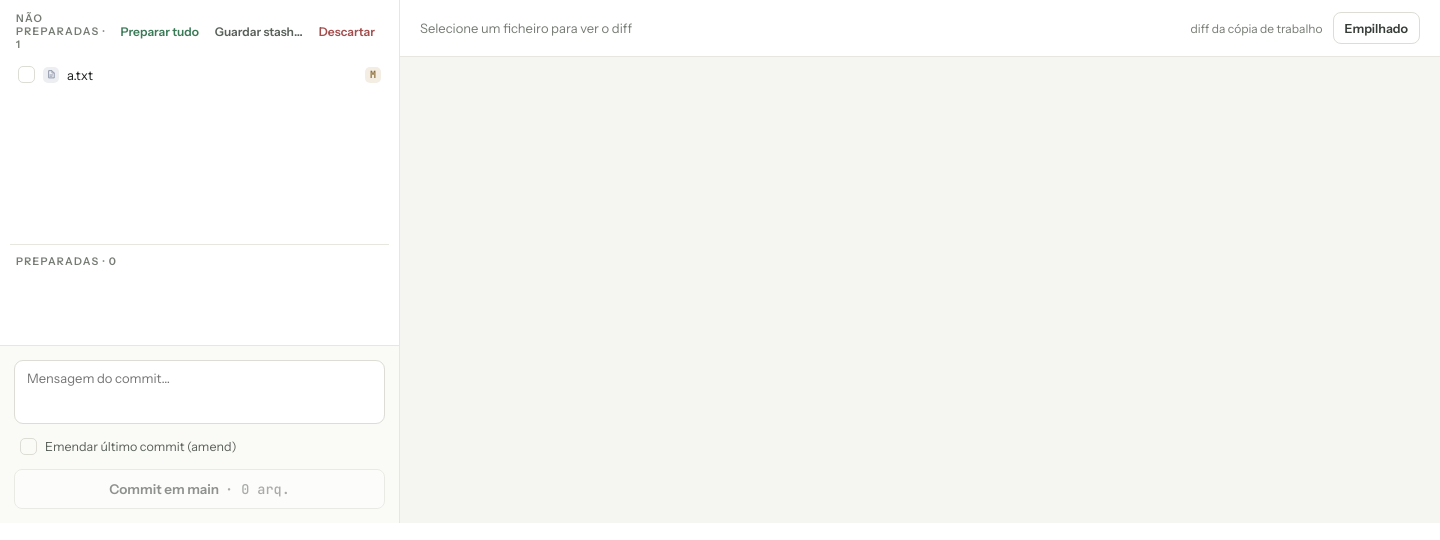
Scenario: Committing: stage + message + commit, end to end through the real mutation wiring › stages a file (refetching status), then commits with the exact message/amend args and refreshes the working copy on success
This screenshot has width=1440, height=540.
Expected: the text "a.txt" is shown, [67,66,93,82]
Expected: the text "NÃO PREPARADAS · 1" is shown, [16,12,113,51]
Step 1. Click the checkbox titled "Preparar" → (26, 74), box [18,66,35,83]
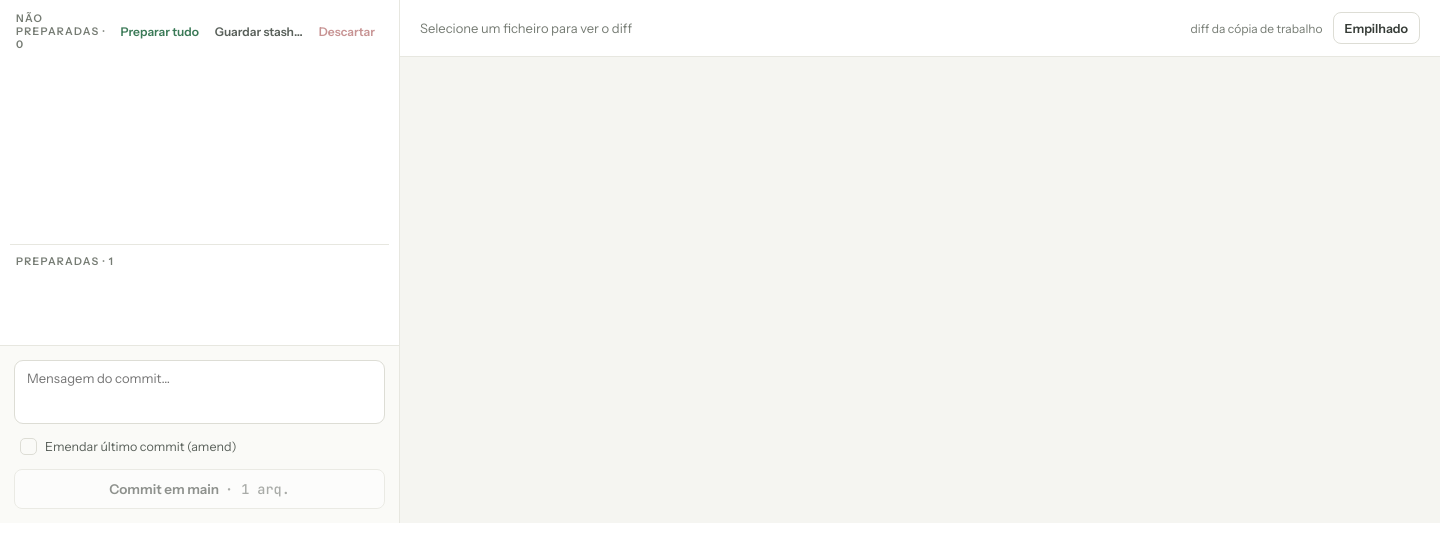
Expected: the text "PREPARADAS · 1" is shown, [16,255,114,268]
Step 2. Type "Fix the login bug" into the text box with placeholder "Mensagem do commit…" → (200, 392), box [14,360,385,424]
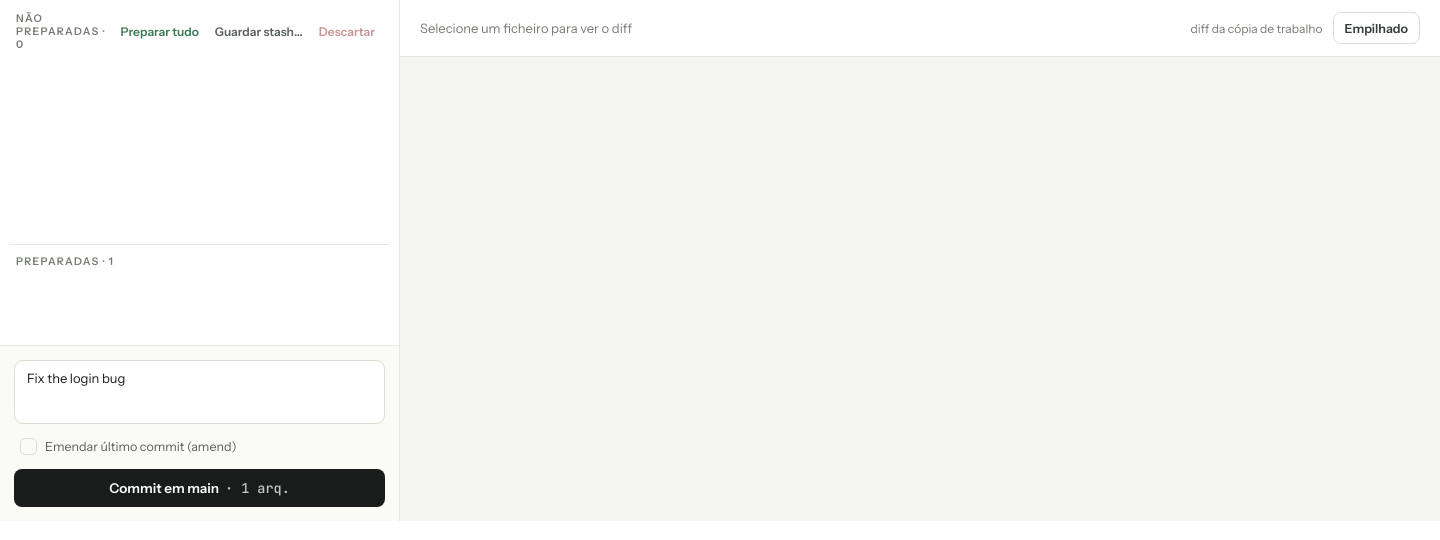
Step 3. Click the button "Commit em main · 1 arq." → (200, 488), box [14,469,385,507]
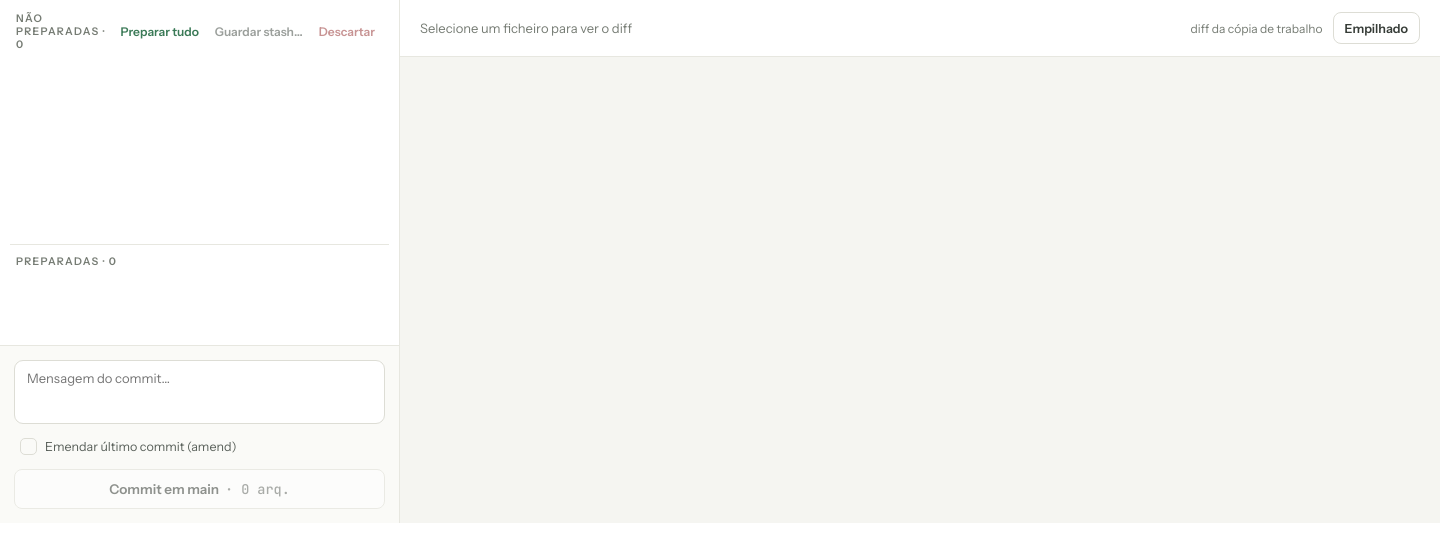
Expected: the text "NÃO PREPARADAS · 0" is shown, [16,12,113,51]
Expected: the text box with placeholder "Mensagem do commit…" is empty, [14,360,385,424]
Expected: the text "PREPARADAS · 0" is shown, [16,255,117,268]
